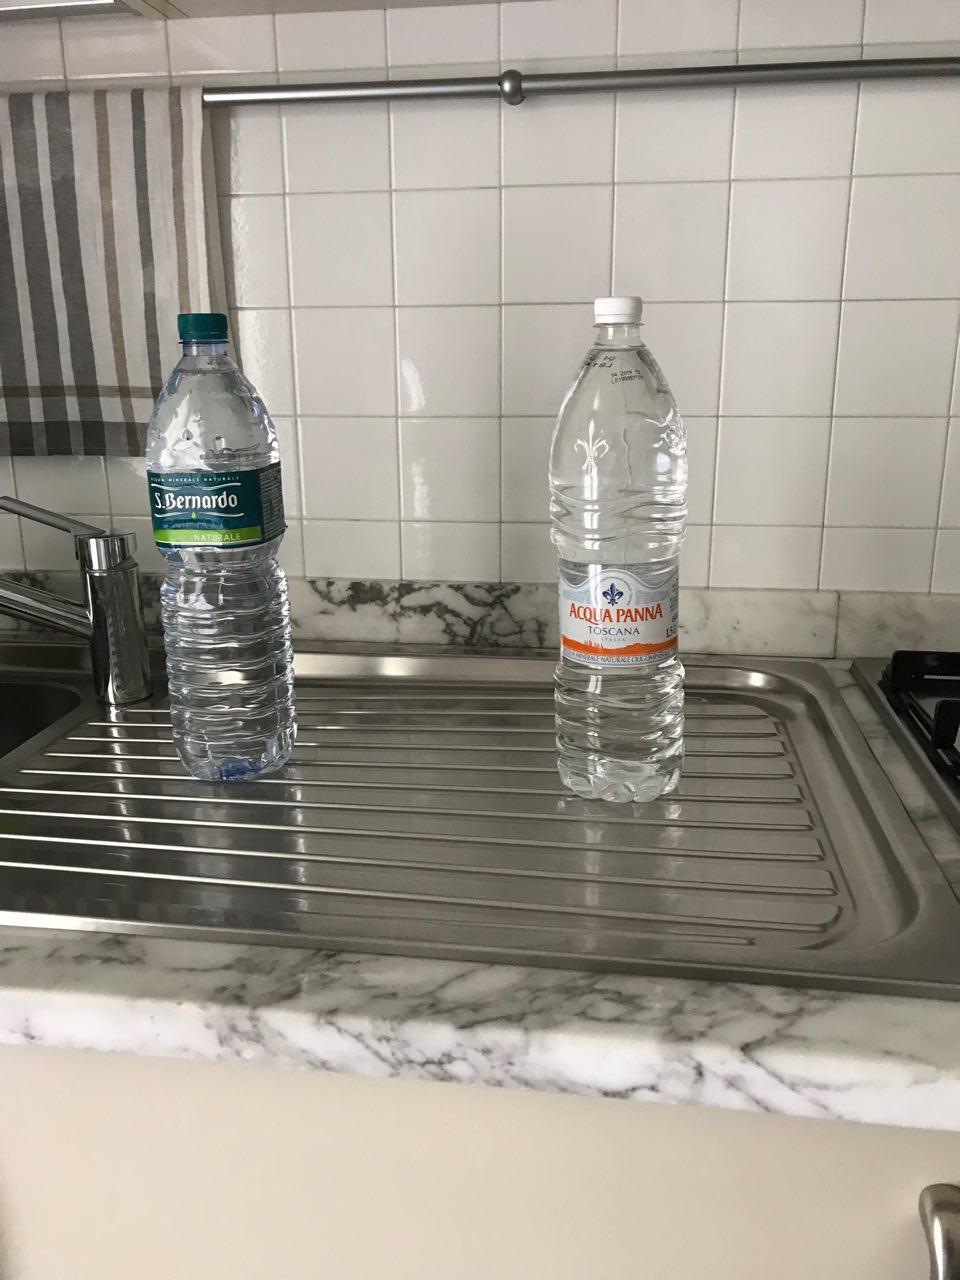san_bernardo: (144, 312, 298, 782)
